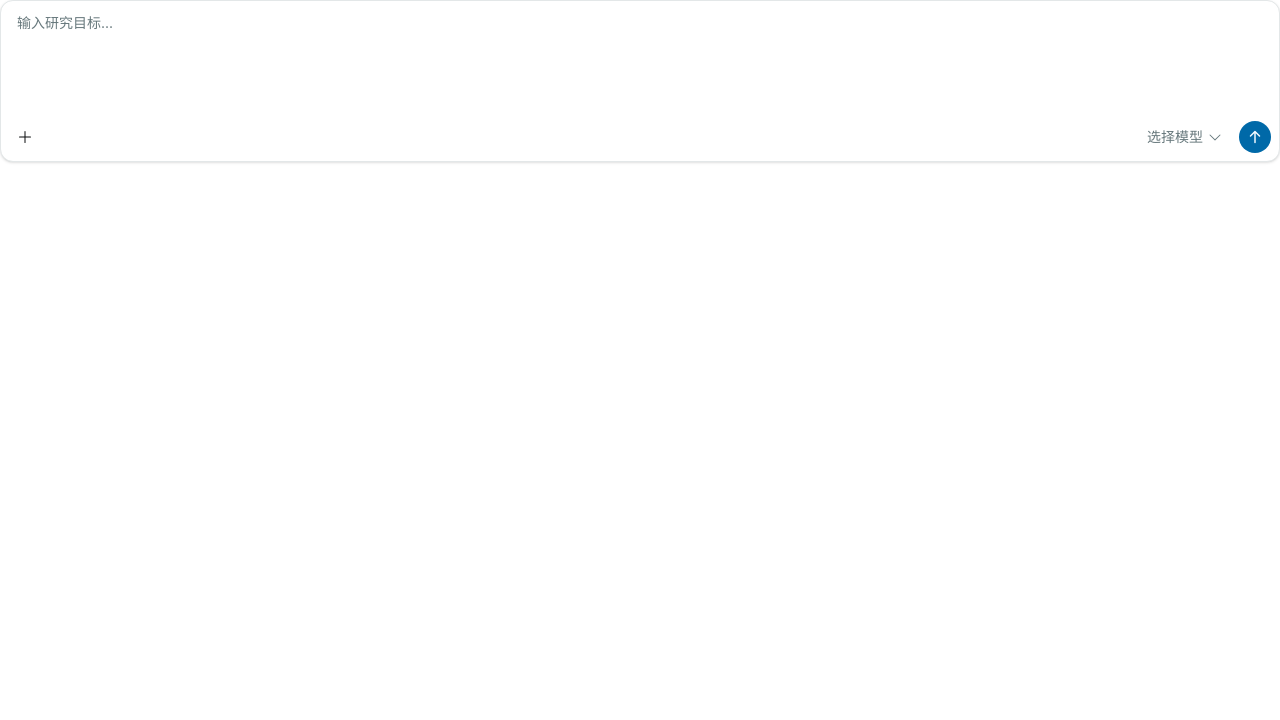
AgentComposer model selector › searches the configured models in the popover
What coordinates should you click on to do the following:
click the dropdown named "点击选择模型"
I would click on:
 (1185, 137)
Its box is [1137, 121, 1233, 153].
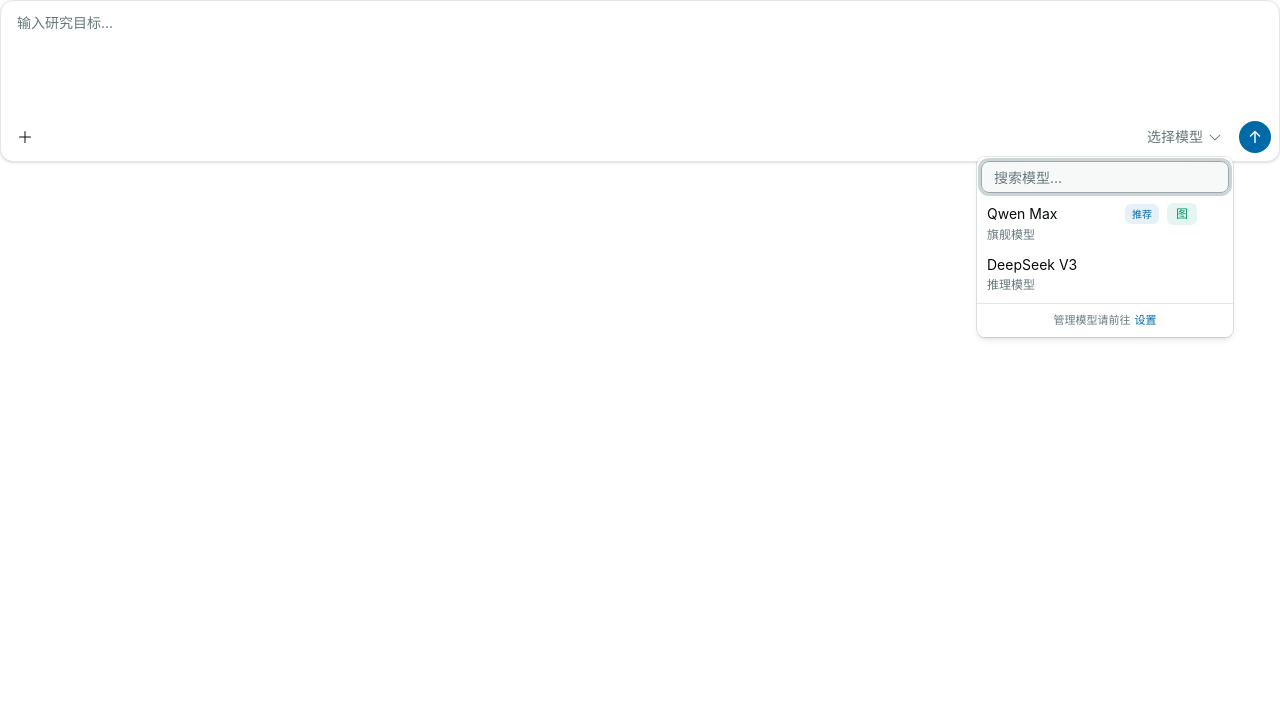
Now the dropdown with placeholder "搜索模型..." is shown, box [982, 159, 1220, 195]
Now the text "Qwen Max" is shown, box [987, 205, 1057, 222]
Now the text "DeepSeek V3" is shown, box [987, 256, 1077, 273]
